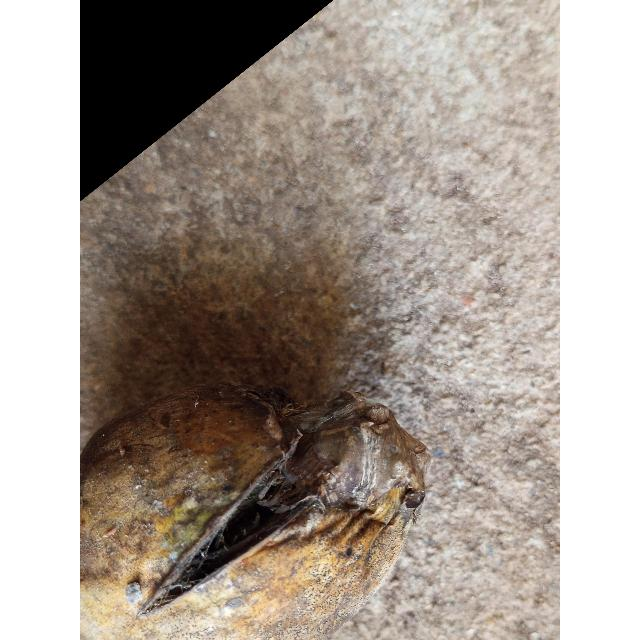damaged: (80, 383, 429, 640)
